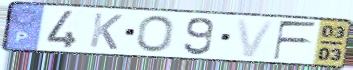4: (43, 9, 80, 50)
9: (183, 16, 216, 55)
F: (271, 20, 319, 61)
K: (87, 11, 126, 52)
O: (135, 14, 176, 54)
V: (234, 17, 278, 59)
